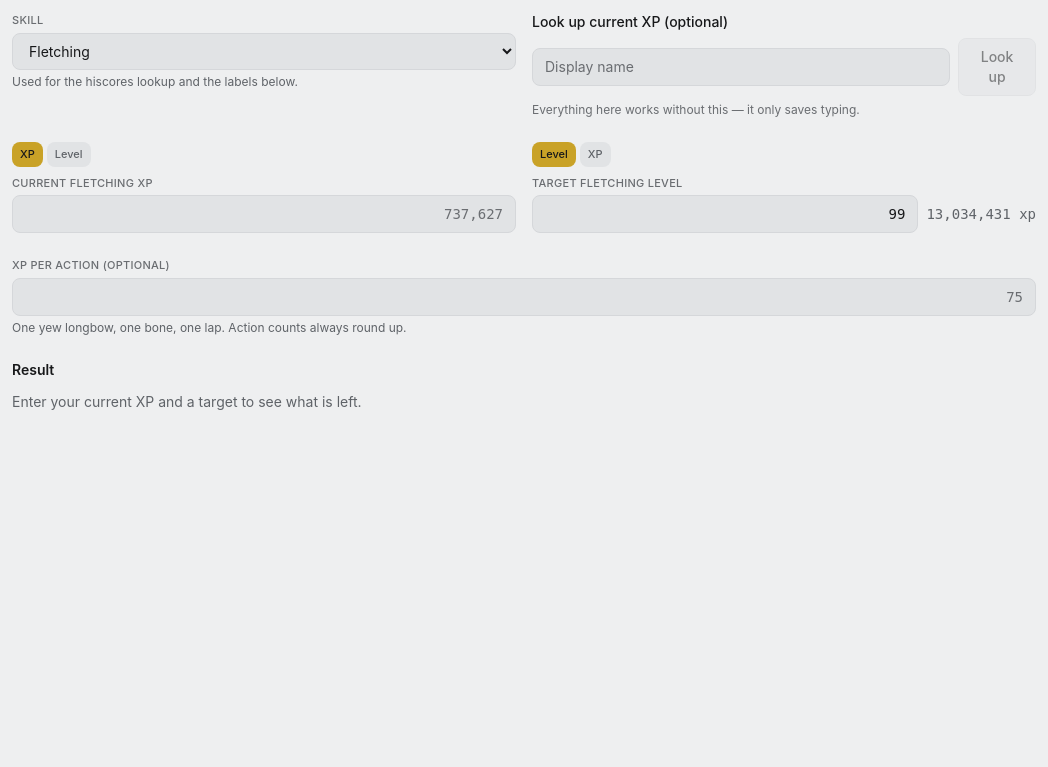
Test case: XpCalculator › fills the current XP box from a successful lookup
Type "Zezima" into the field labelled "Look up current XP (optional)" at [741, 67], box [532,48,950,86]
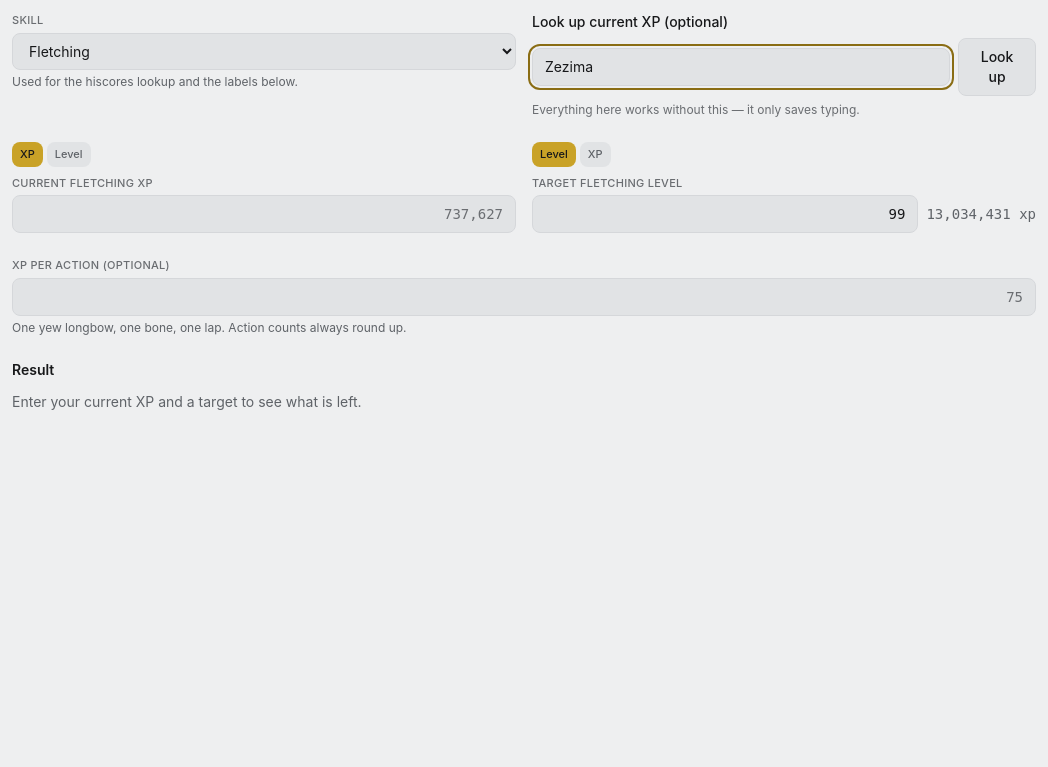
Click the button "Look up" at [997, 67], box [958,38,1036,96]
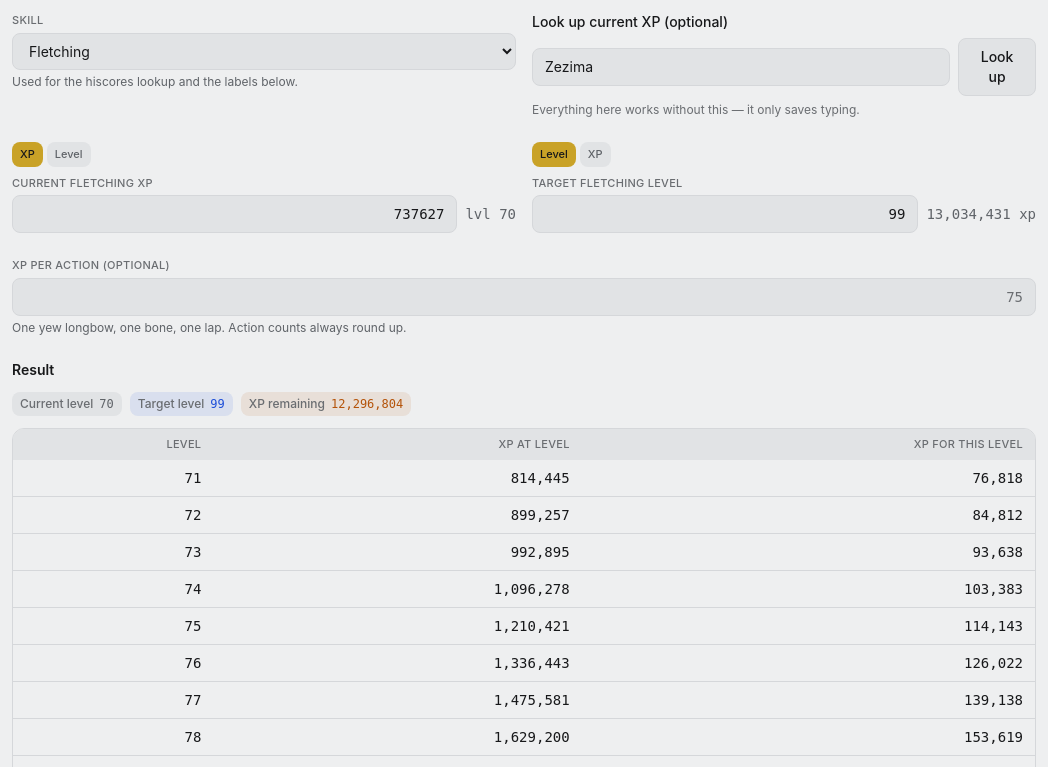
Expected: the field showing "737627" is shown, [12,195,457,233]
